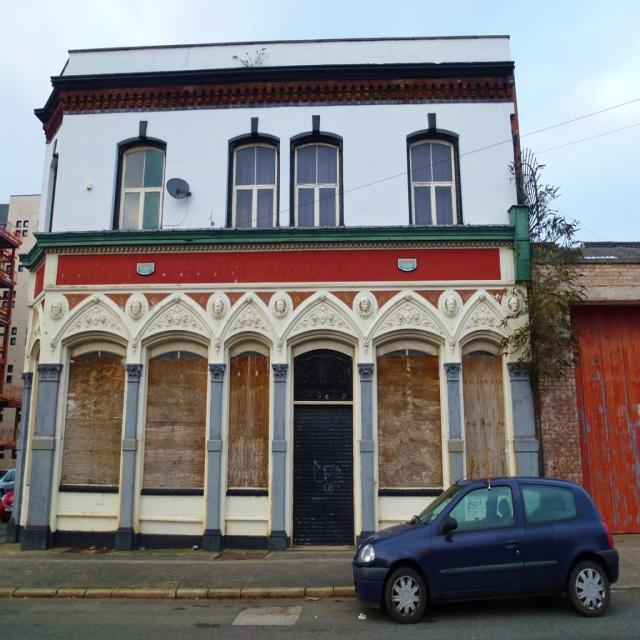car: (350, 451, 620, 624)
